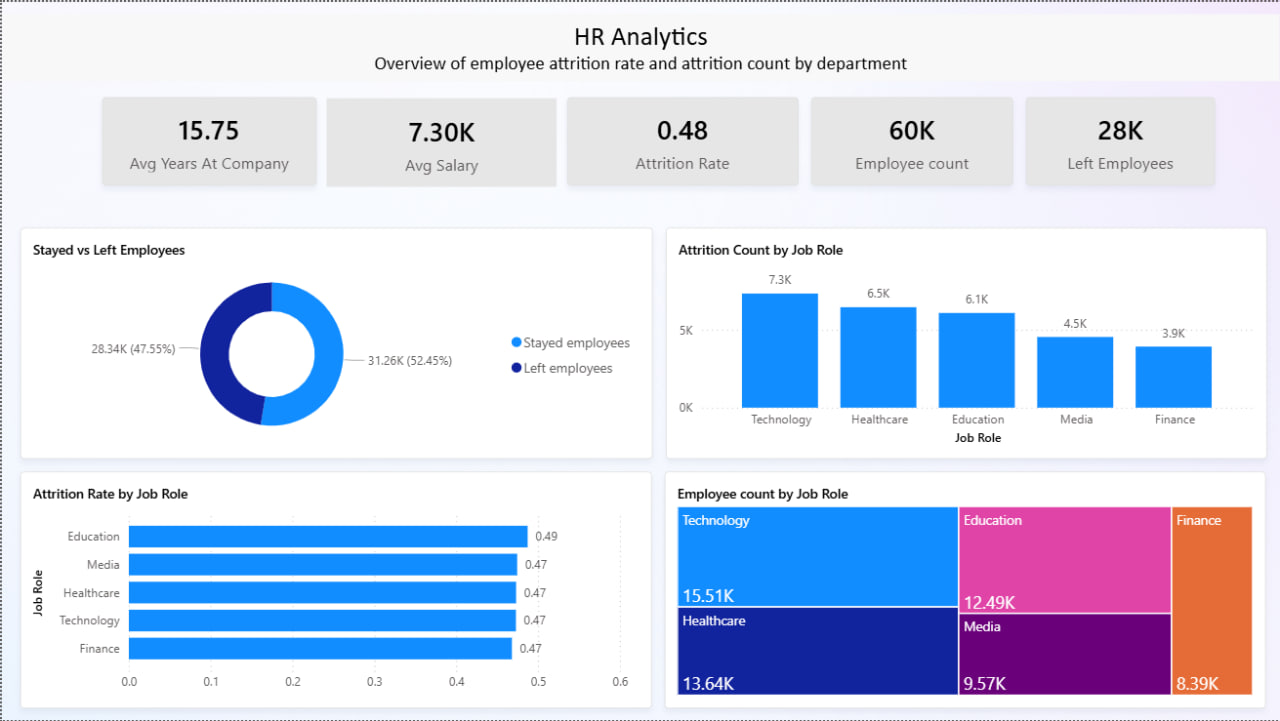

Layout of this report page (visuals, bound fields, positions):
{"tool":"powerbi","page":{"name":"Overview","canvas":[1280,720],"ordinal":1},"visuals":[{"type":"card","fields":{"Values":["hr_analytics employee_attrition.Attrition Rate"]},"box":[565.6,95.7,232.1,88.6],"z":0},{"type":"card","fields":{"Values":["hr_analytics employee_attrition.Attrotion Count"]},"box":[1025.6,95.7,189.9,88.6],"z":1000},{"type":"card","fields":{"Values":["hr_analytics employee_attrition.Employee count"]},"box":[810.4,95.7,202.6,88.6],"z":2000},{"type":"barChart","fields":{"Category":["hr_analytics employee_attrition.Job Role"],"Y":["hr_analytics employee_attrition.Attrition Rate"]},"box":[18.3,471.3,633.1,237.8],"z":3000},{"type":"textbox","box":[0,12.3,1280.3,67.2],"z":4000},{"type":"card","fields":{"Values":["Avg(hr_analytics employee_attrition.Monthly Income)"]},"box":[325,97.1,230.7,88.6],"z":5000},{"type":"card","fields":{"Values":["Avg(hr_analytics employee_attrition.Years at Company)"]},"box":[99.9,95.7,215.3,88.6],"z":6000},{"type":"clusteredColumnChart","fields":{"Category":["hr_analytics employee_attrition.Job Role"],"Y":["hr_analytics employee_attrition.Attrotion Count"]},"box":[664.7,226,602.2,232],"z":7000},{"type":"donutChart","title":"Stayed vs Left Employees","fields":{"Y":["Sum(hr_analytics vw_expereince.Stayed_employees)","Sum(hr_analytics vw_expereince.Attrition_Count)"]},"box":[17.8,226,633.5,232],"z":8000},{"type":"treemap","fields":{"Values":["CountNonNull(hr_analytics employee_attrition.Employee ID)"],"Group":["hr_analytics employee_attrition.Job Role"]},"box":[664.1,471.3,602.2,237.8],"z":9000}]}

Visuals, with their boxes in screenshot pixels (x1, y1, x2, y2), scaled from the page's 1280x720 canvas onto the 1280x721 screenshot:
card - hr_analytics employee_attrition.Attrition Rate: x1=566, y1=96, x2=798, y2=185
card - hr_analytics employee_attrition.Attrotion Count: x1=1026, y1=96, x2=1216, y2=185
card - hr_analytics employee_attrition.Employee count: x1=810, y1=96, x2=1013, y2=185
barChart - hr_analytics employee_attrition.Job Role x hr_analytics employee_attrition.Attrition Rate: x1=18, y1=472, x2=651, y2=710
textbox: x1=0, y1=12, x2=1279, y2=80
card - Avg(hr_analytics employee_attrition.Monthly Income): x1=325, y1=97, x2=556, y2=186
card - Avg(hr_analytics employee_attrition.Years at Company): x1=100, y1=96, x2=315, y2=185
clusteredColumnChart - hr_analytics employee_attrition.Job Role x hr_analytics employee_attrition.Attrotion Count: x1=665, y1=226, x2=1267, y2=459
"Stayed vs Left Employees" donutChart: x1=18, y1=226, x2=651, y2=459
treemap - CountNonNull(hr_analytics employee_attrition.Employee ID) x hr_analytics employee_attrition.Job Role: x1=664, y1=472, x2=1266, y2=710
